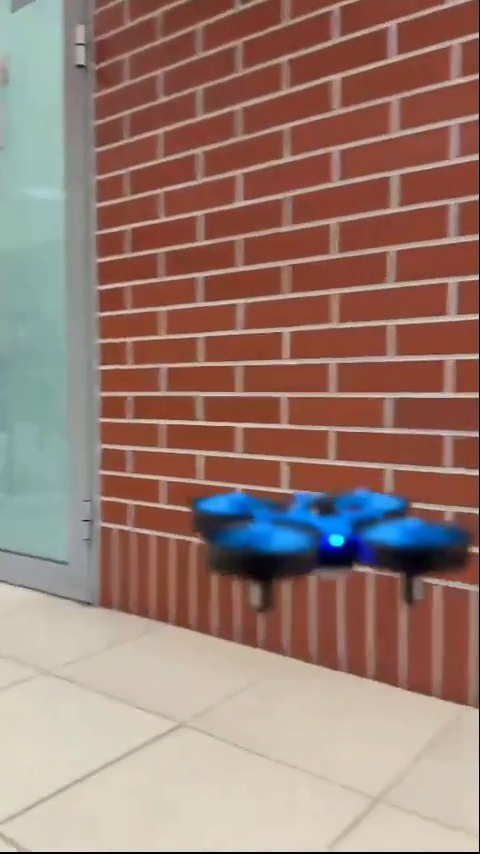drone: (185, 484, 468, 605)
